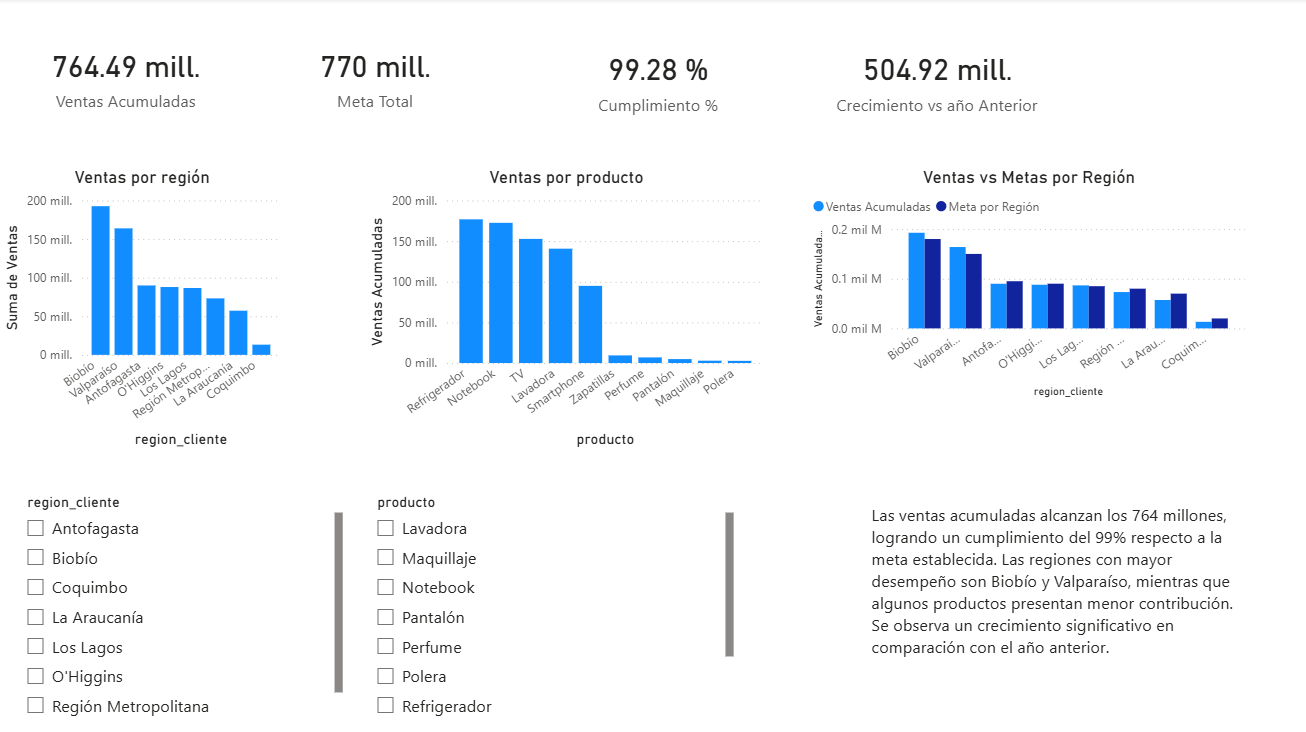

Layout of this report page (visuals, bound fields, positions):
{"tool":"powerbi","page":{"name":"Dashboard de ventas","canvas":[1280,720],"ordinal":0},"visuals":[{"type":"card","fields":{"Values":["ventas_eshopnow (Proyecto ABP M.Ventas Acumuladas"]},"box":[0,0,248.2,151.6],"z":0},{"type":"clusteredColumnChart","title":"Ventas por región","fields":{"Category":["ventas_eshopnow (Proyecto ABP M.region_cliente"],"Y":["Sum(ventas_eshopnow (Proyecto ABP M.Ventas)"]},"box":[0,165.1,280,280],"z":1000},{"type":"slicer","fields":{"Values":["ventas_eshopnow (Proyecto ABP M.producto"]},"box":[357.1,479.4,366.8,231.1],"z":2000},{"type":"clusteredColumnChart","title":"Ventas por producto","fields":{"Category":["ventas_eshopnow (Proyecto ABP M.producto"],"Y":["ventas_eshopnow (Proyecto ABP M.Ventas Acumuladas"]},"box":[357.1,165.1,396.2,280],"z":3000},{"type":"card","fields":{"Values":["Ventas.Variación vs Año Anterior"]},"box":[803.4,3.7,228.7,151.6],"z":5000},{"type":"slicer","fields":{"Values":["metas.region_cliente"]},"box":[14.7,479.4,326.5,231.1],"z":8000},{"type":"clusteredColumnChart","title":"Ventas vs Metas por Región","fields":{"Category":["metas.region_cliente"],"Y":["Ventas.Ventas Acumuladas","metas.Meta por Región"]},"box":[791.2,165.1,432.9,231.1],"z":8002},{"type":"card","fields":{"Values":["metas.Cumplimiento %"]},"box":[237.2,0,261.7,151.6],"z":8003},{"type":"card","fields":{"Values":["metas.Cumplimiento %"]},"box":[498.9,3.7,292.3,151.6],"z":8005},{"type":"textbox","box":[848.6,489.1,366.8,183.4],"z":8006}]}

Visuals, with their boxes in screenshot pixels (x1, y1, x2, y2), scaled from the page's 1280x720 canvas onto the 1306x732 screenshot:
card - ventas_eshopnow (Proyecto ABP M.Ventas Acumuladas: l=0, t=0, r=253, b=154
"Ventas por región" clusteredColumnChart: l=0, t=168, r=286, b=453
slicer - ventas_eshopnow (Proyecto ABP M.producto: l=364, t=487, r=739, b=722
"Ventas por producto" clusteredColumnChart: l=364, t=168, r=769, b=453
card - Ventas.Variación vs Año Anterior: l=820, t=4, r=1053, b=158
slicer - metas.region_cliente: l=15, t=487, r=348, b=722
"Ventas vs Metas por Región" clusteredColumnChart: l=807, t=168, r=1249, b=403
card - metas.Cumplimiento %: l=242, t=0, r=509, b=154
card - metas.Cumplimiento %: l=509, t=4, r=807, b=158
textbox: l=866, t=497, r=1240, b=684
